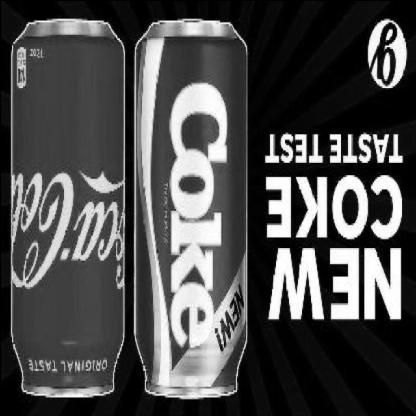alumunium_can: (9, 17, 124, 399), (133, 19, 247, 397)
